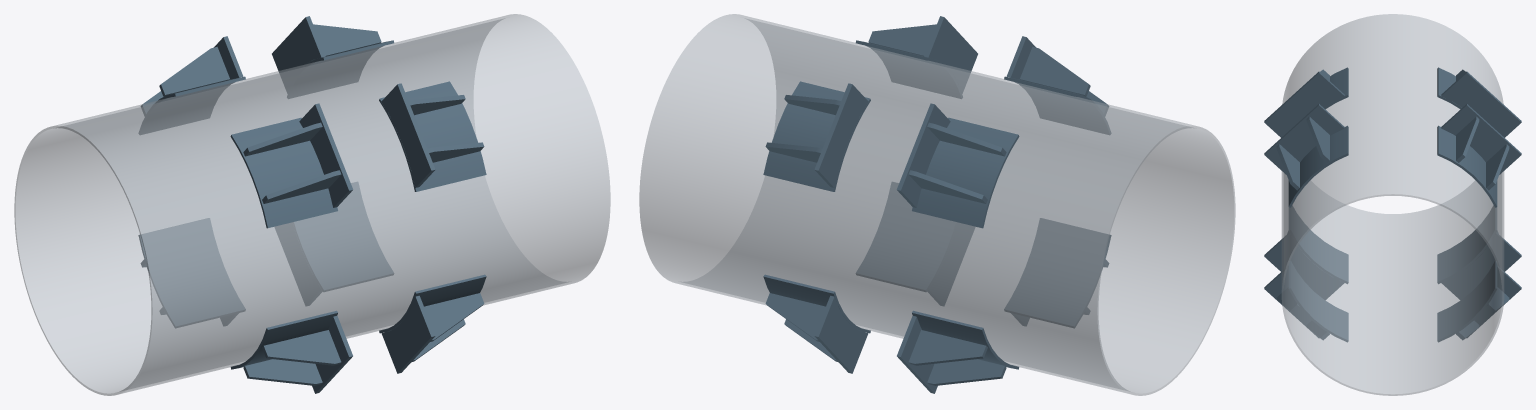
Rendered from TS-664.00.00-05-opora-dn920-ris2.glb.
The picture shows the model from 3 angles, left to right: view 1: azimuth 30°, elevation 25°; view 2: azimuth 150°, elevation 25°; view 3: azimuth 270°, elevation 25°; orthographic projection. The views are drawn at different scales.
Visible parts, largest first — view 1: truba, det_24, det_20, det_8, det_4, det_32, det_28, det_1, det_9, det_25, det_5, det_14 (+13 smaller); view 2: truba, det_16, det_12, det_32, det_28, det_8, det_4, det_25, det_17, det_1, det_29, det_23 (+13 smaller); view 3: truba, det_5, det_29, det_12, det_20, det_16, det_24, det_13, det_21, det_1, det_25, det_4 (+11 smaller).
Part boxes in pixels (x1=…): truba: x1=14, y1=14, x2=610, y2=395; det_24: x1=138, y1=218, x2=245, y2=327; det_20: x1=293, y1=182, x2=393, y2=291; det_8: x1=230, y1=117, x2=337, y2=228; det_4: x1=379, y1=81, x2=486, y2=191; det_32: x1=139, y1=76, x2=245, y2=134; det_28: x1=287, y1=40, x2=394, y2=98; det_1: x1=381, y1=83, x2=435, y2=187; det_9: x1=381, y1=295, x2=435, y2=373; det_25: x1=272, y1=16, x2=325, y2=93; det_5: x1=299, y1=103, x2=353, y2=207; det_14: x1=262, y1=330, x2=341, y2=365; truba: x1=639, y1=14, x2=1235, y2=395; det_16: x1=1004, y1=218, x2=1111, y2=327; det_12: x1=856, y1=182, x2=956, y2=291; det_32: x1=912, y1=117, x2=1019, y2=228; det_28: x1=763, y1=81, x2=870, y2=191; det_8: x1=1004, y1=76, x2=1110, y2=134; det_4: x1=855, y1=40, x2=962, y2=98; det_25: x1=814, y1=83, x2=868, y2=187; det_17: x1=814, y1=295, x2=868, y2=373; det_1: x1=924, y1=16, x2=977, y2=93; det_29: x1=896, y1=103, x2=950, y2=207; det_23: x1=908, y1=330, x2=987, y2=365; truba: x1=1281, y1=14, x2=1504, y2=395; det_5: x1=1264, y1=71, x2=1344, y2=137; det_29: x1=1441, y1=71, x2=1521, y2=137; det_12: x1=1288, y1=261, x2=1348, y2=342; det_20: x1=1437, y1=261, x2=1497, y2=342; det_16: x1=1289, y1=206, x2=1348, y2=283; det_24: x1=1437, y1=206, x2=1496, y2=283; det_13: x1=1264, y1=233, x2=1344, y2=300; det_21: x1=1441, y1=233, x2=1521, y2=300; det_1: x1=1264, y1=104, x2=1344, y2=174; det_25: x1=1441, y1=104, x2=1521, y2=174; det_4: x1=1288, y1=125, x2=1348, y2=207.
Bounding box in the file's own units: 1760 × 1063 × 1063.
